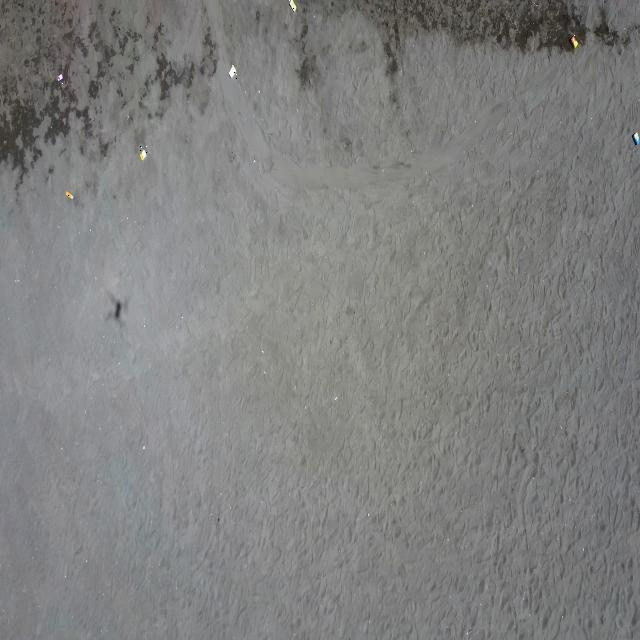Garbage: (56, 72, 63, 87), (138, 145, 145, 160), (228, 65, 236, 77), (288, 0, 296, 12), (569, 35, 575, 48), (55, 72, 63, 81), (633, 131, 639, 143), (64, 191, 72, 199)
